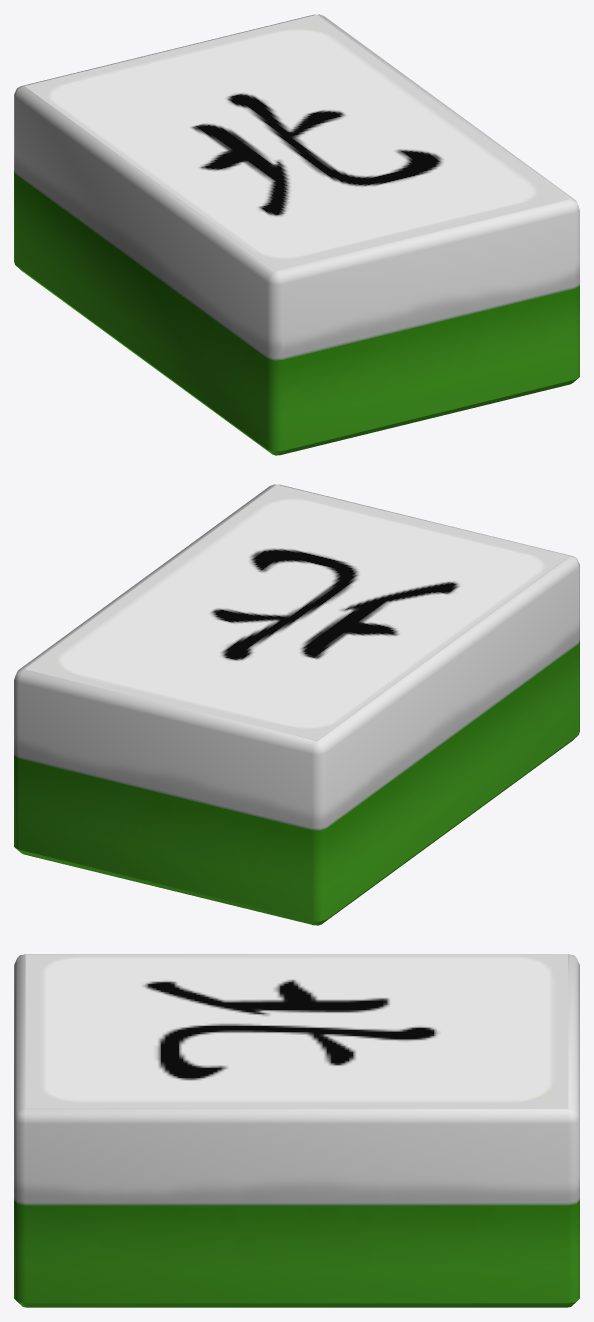
The model's file is mahjong_tile_13.FBX.
The picture shows the model from 3 angles, top to bottom: view 1: azimuth 30°, elevation 25°; view 2: azimuth 150°, elevation 25°; view 3: azimuth 270°, elevation 25°; orthographic projection. The views are drawn at different scales.
Visible parts, largest first — view 1: mahjong_tile_13; view 2: mahjong_tile_13; view 3: mahjong_tile_13.
Part boxes in pixels (<box>): mahjong_tile_13: <box>14,14,579,455</box>; mahjong_tile_13: <box>14,484,579,925</box>; mahjong_tile_13: <box>14,954,579,1307</box>.
Size of the model in its own units: 130 by 73.07 by 190.
